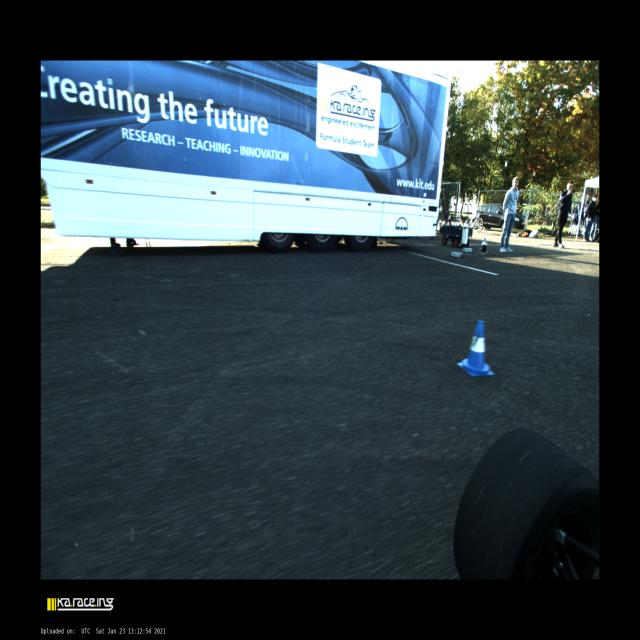blue_cone: (458, 320, 494, 376), (479, 238, 487, 252)
